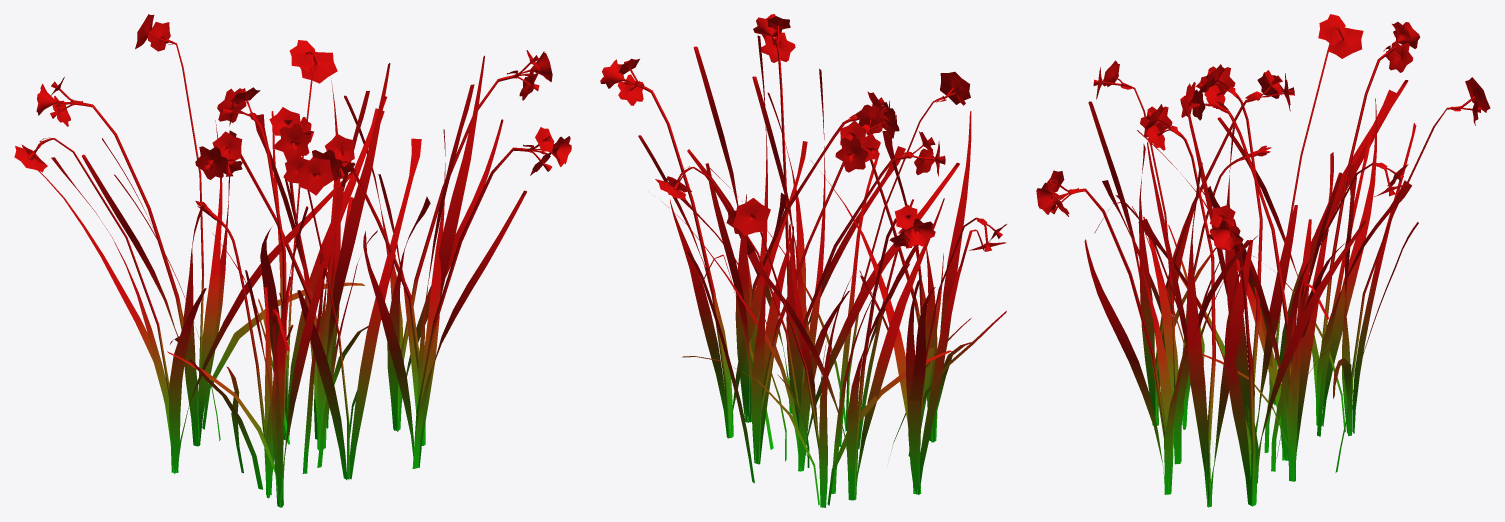
Rendered from Rush Daffodil_LOD3_Var1_wftgfjaia.fbx.
The picture shows the model from 3 angles, left to right: view 1: azimuth 30°, elevation 25°; view 2: azimuth 150°, elevation 25°; view 3: azimuth 270°, elevation 25°; orthographic projection. The views are drawn at different scales.
Visible parts, largest first — view 1: _q6r3_var1_LOD3; view 2: _q6r3_var1_LOD3; view 3: _q6r3_var1_LOD3.
Boxes of the visible parts, <box> form: _q6r3_var1_LOD3: <box>14,14,571,507</box>; _q6r3_var1_LOD3: <box>600,14,1007,507</box>; _q6r3_var1_LOD3: <box>1036,14,1490,507</box>.
Size of the model in its own units: 46.16 by 35.29 by 38.62.
